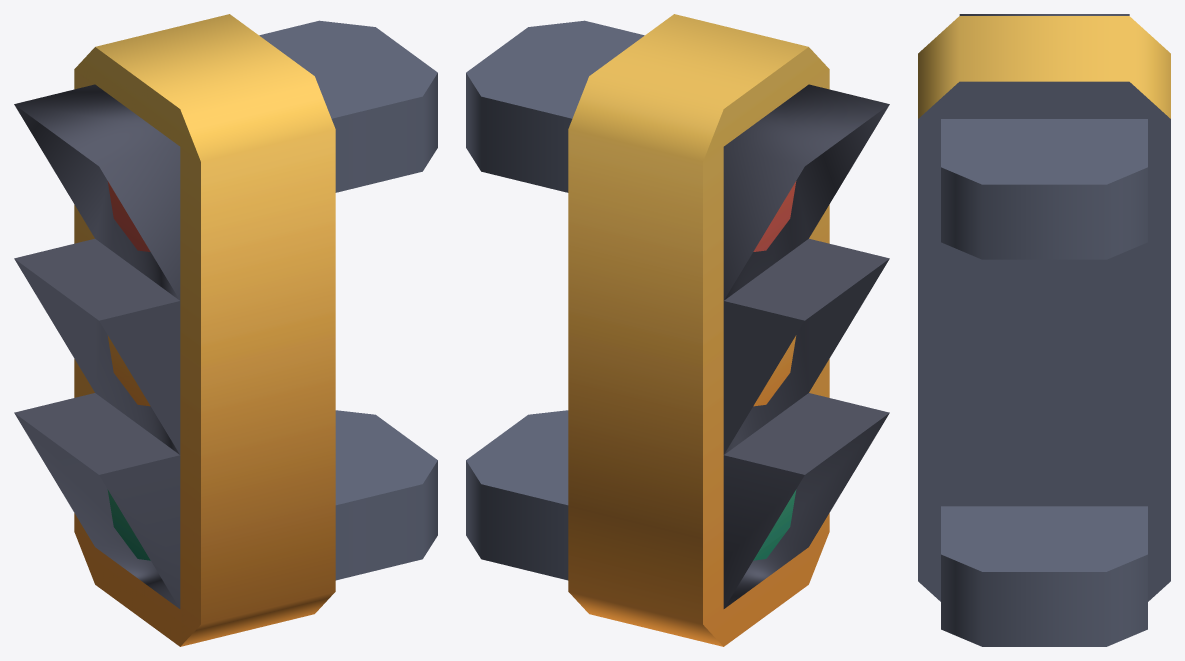
Rendered from traffic-light-object-vertical.glb.
3 renders of one model, left to right at view 1: azimuth 30°, elevation 25°; view 2: azimuth 150°, elevation 25°; view 3: azimuth 270°, elevation 25°, orthographic.
Visible parts, largest first — view 1: traffic-light-object-vertical; view 2: traffic-light-object-vertical; view 3: traffic-light-object-vertical.
Boxes of the visible parts, bbox=[...] form: traffic-light-object-vertical: bbox=[14, 14, 437, 646]; traffic-light-object-vertical: bbox=[466, 14, 889, 646]; traffic-light-object-vertical: bbox=[918, 14, 1170, 646].
Bounding box in the file's own units: 0.0976 × 0.1432 × 0.0611.
Materials: 1 (1 with a texture image).
